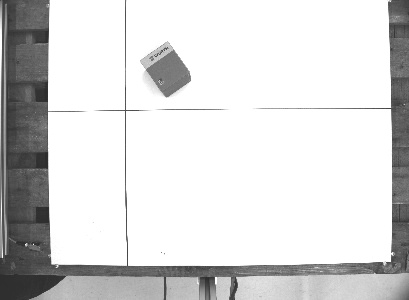b7: (136, 39, 194, 99)
